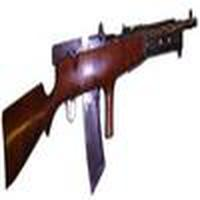gun: (2, 14, 200, 187)
